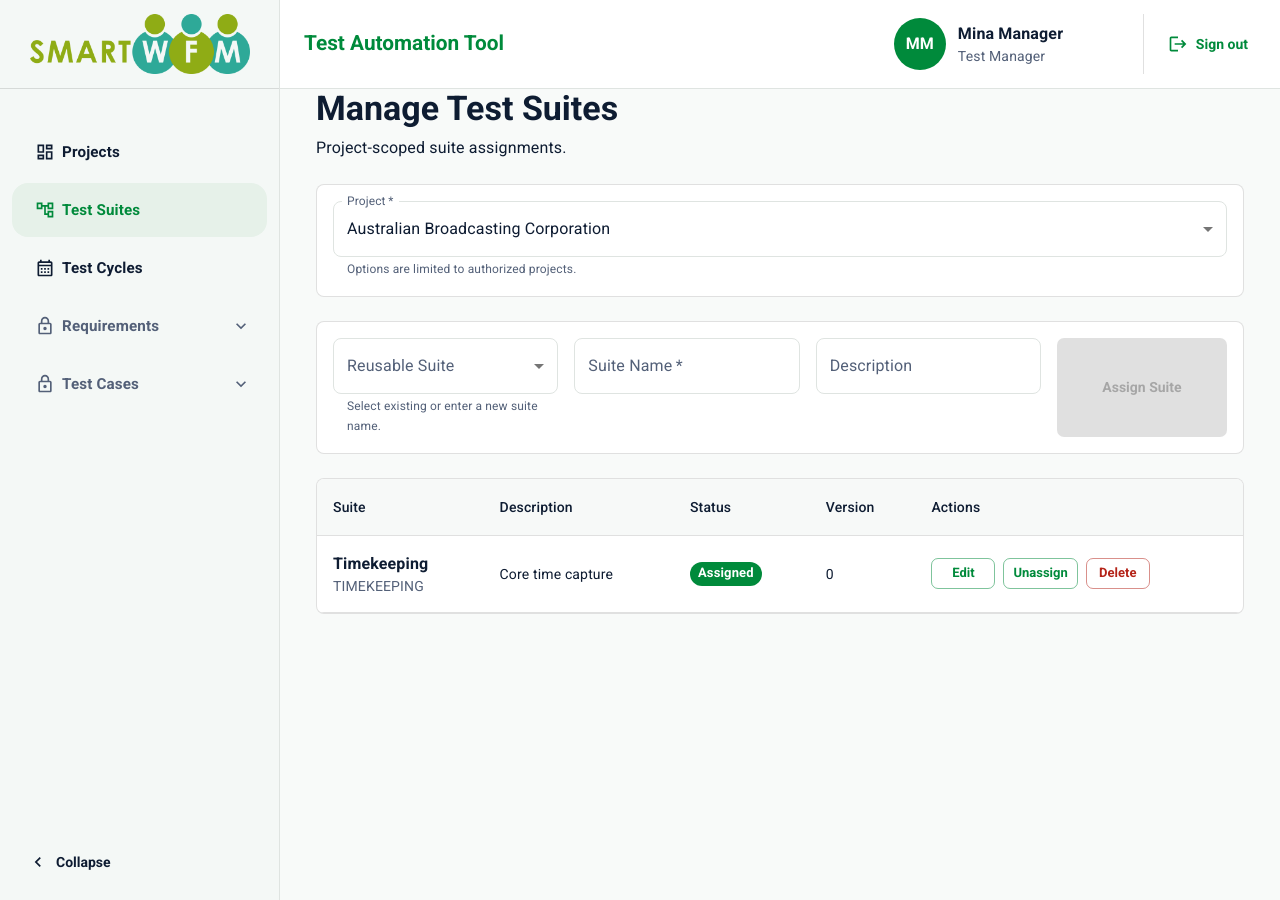
Scenario: App shell › renders UI-04 suite assignments and assigns a new suite for a Test Manager
The width and height of the screenshot is (1280, 900).
Expected: the heading "Manage Test Suites" is shown, [316,88,618,128]
In the field labelled "Suite Name *": (687, 366) [574,338,800,394], type "Personas"
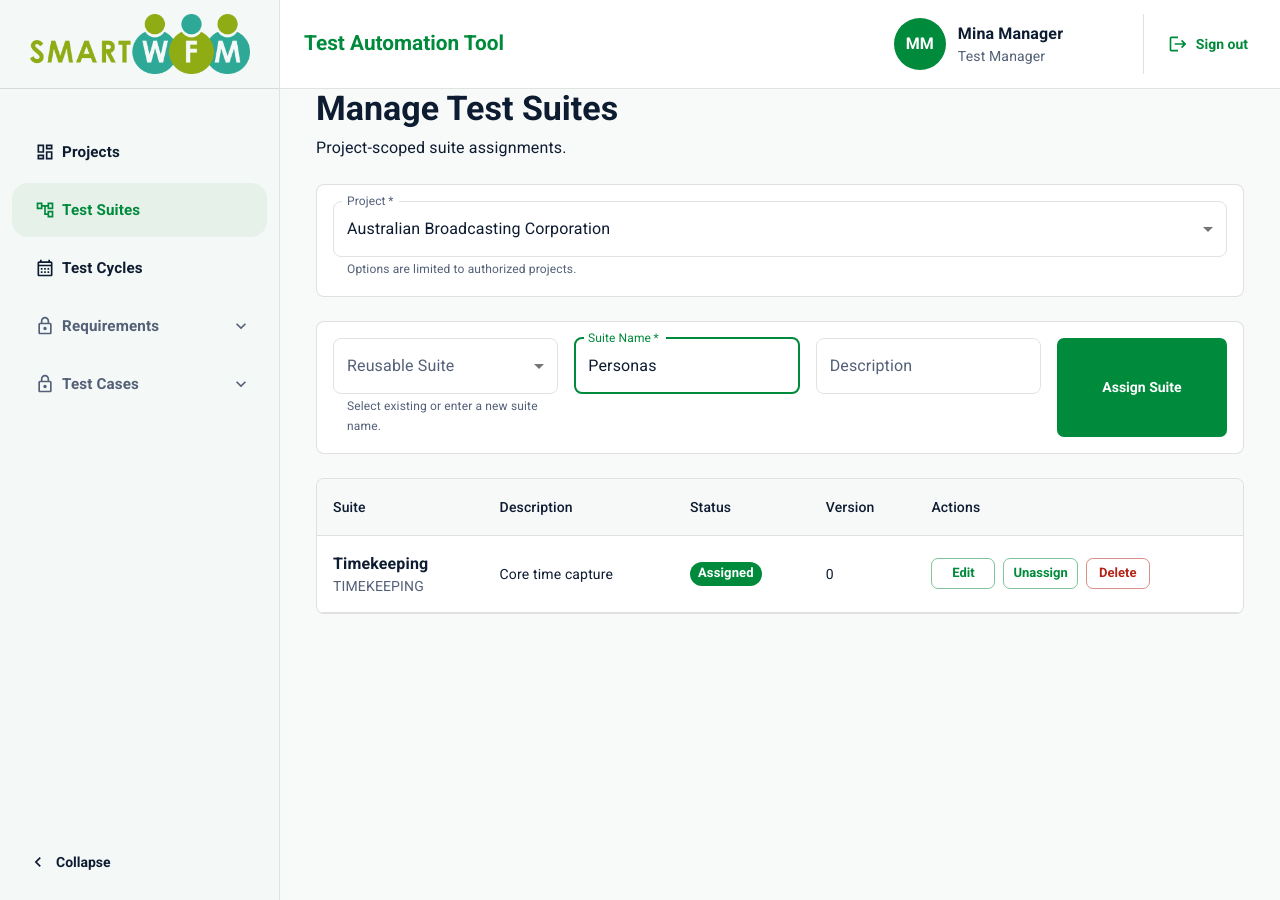
In the field labelled "Description": (928, 366) [816,338,1041,394], type "Persona testing"
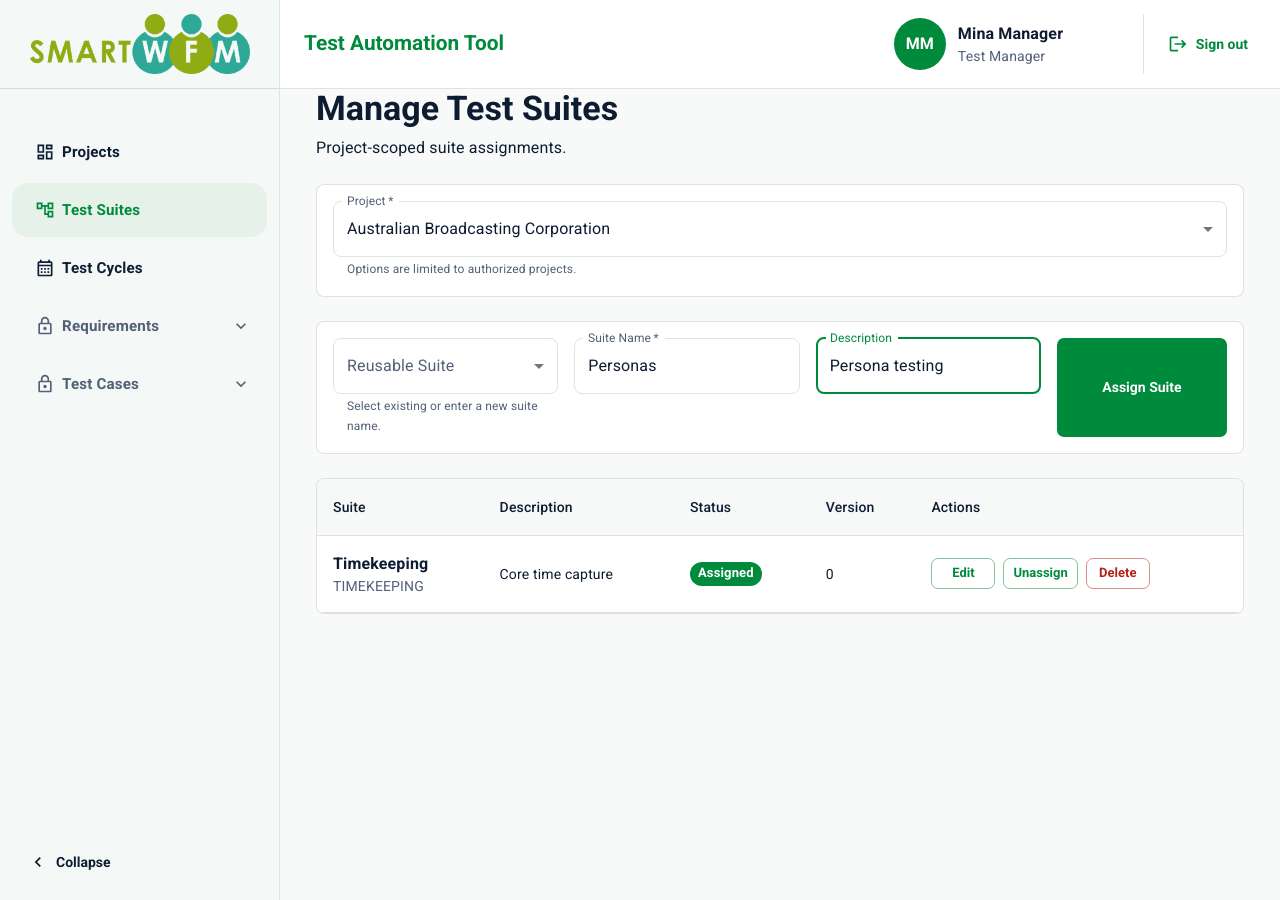
Click the button "Assign Suite": (1142, 387) [1057,338,1227,437]
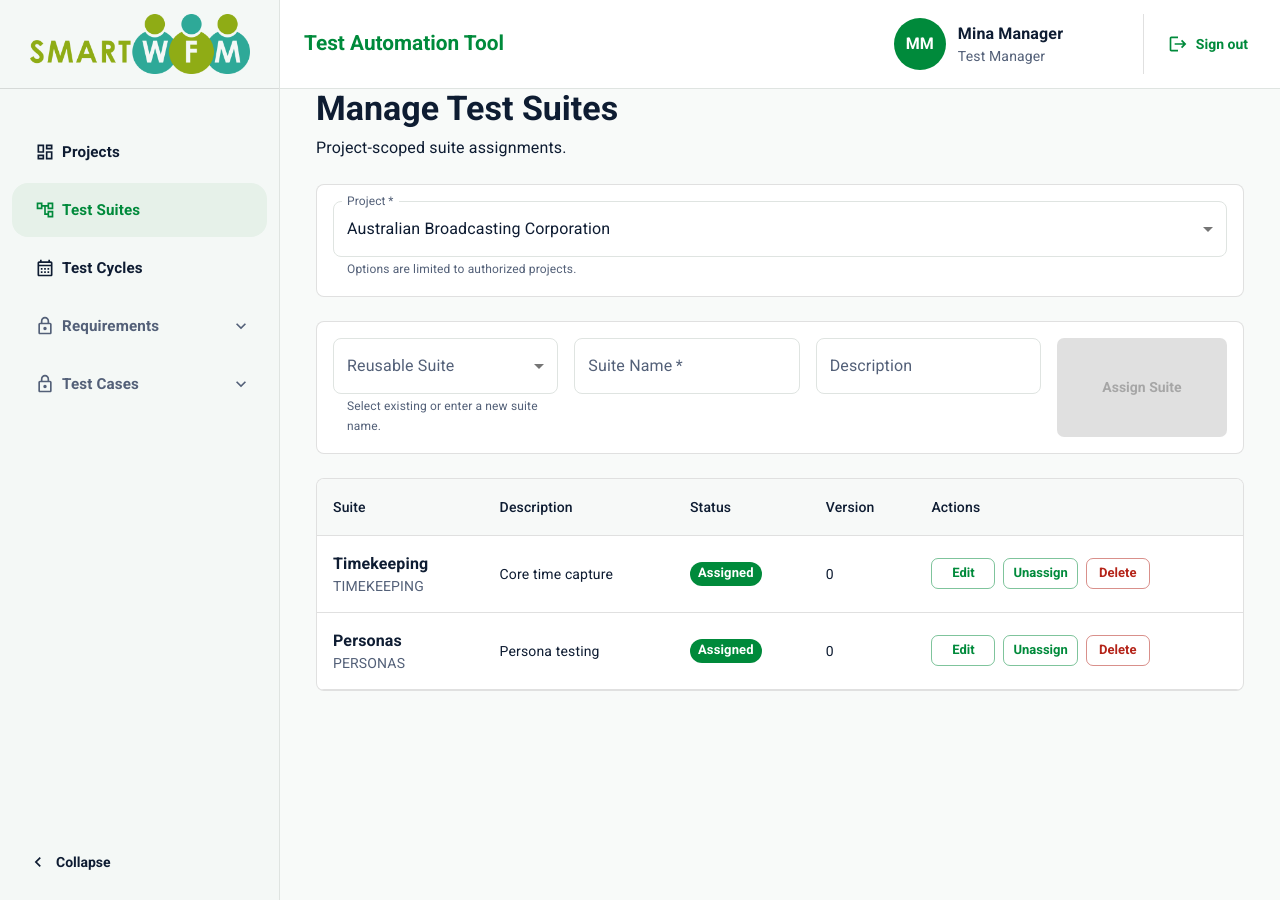
Now the text "Personas" is shown, box [333,631,402,650]
